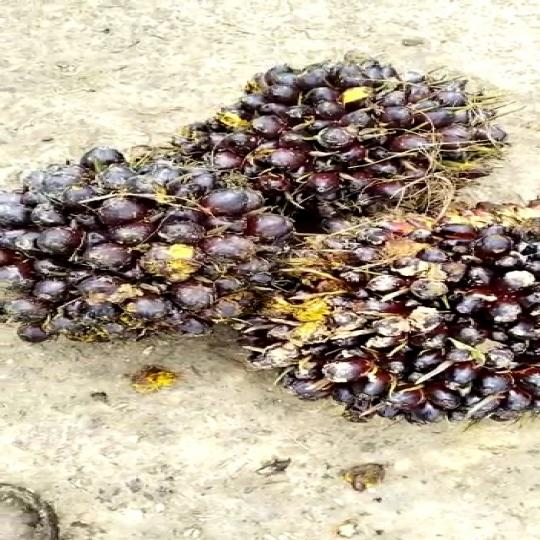mentah: (232, 184, 540, 429), (155, 52, 503, 219), (0, 146, 291, 339)
